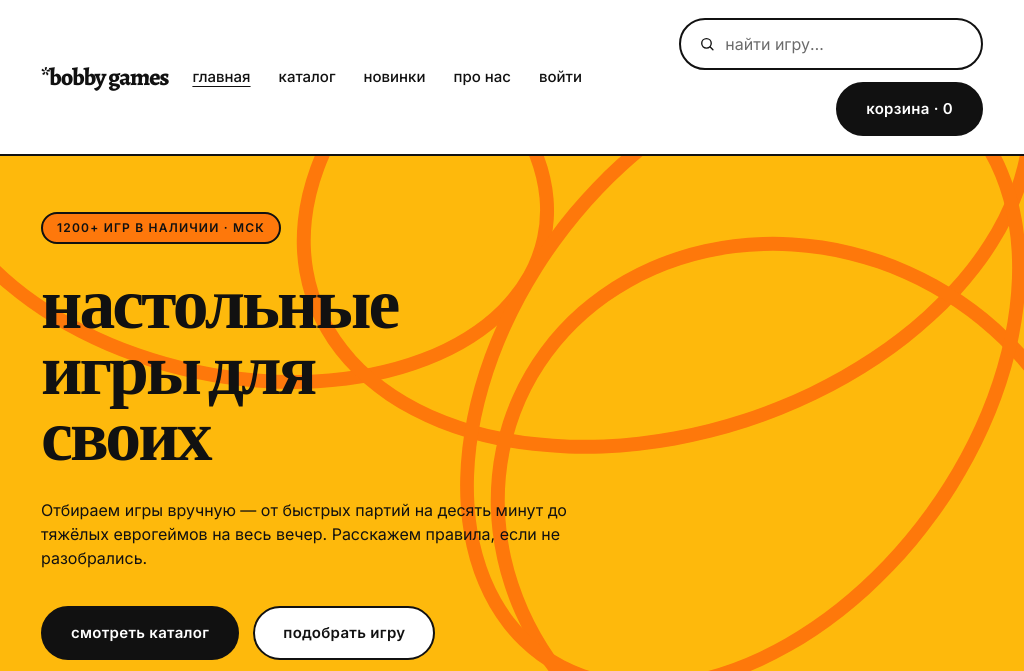
it: каталог › открывает новинки из меню
The width and height of the screenshot is (1024, 671).
Click the link "новинки". click: [394, 77]
box: [364, 66, 426, 88]
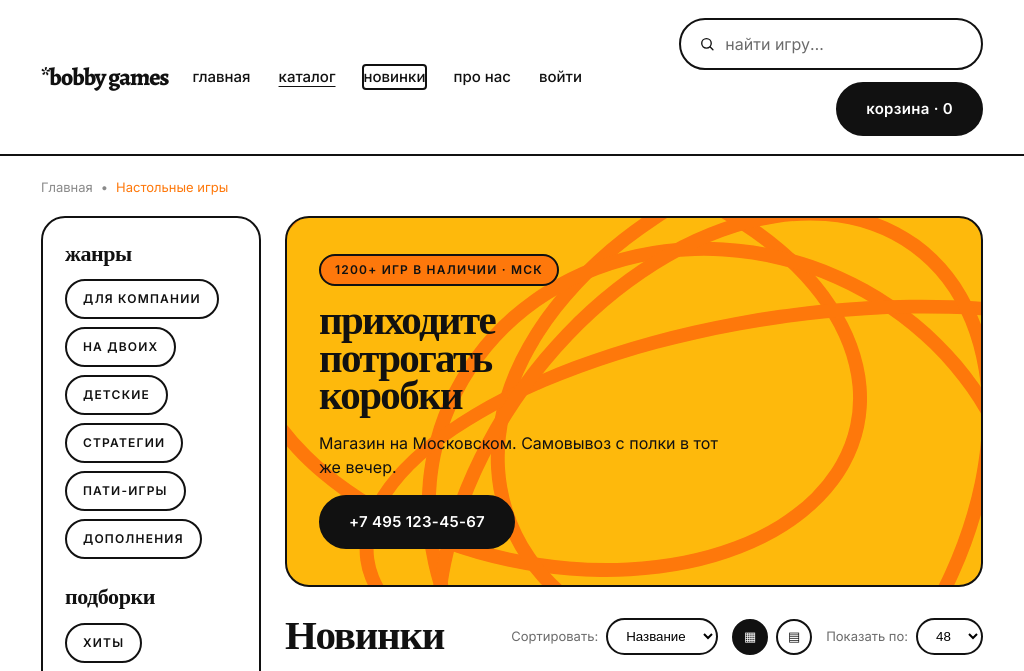
Expected: the heading "Новинки" is shown, [285, 615, 444, 655]
